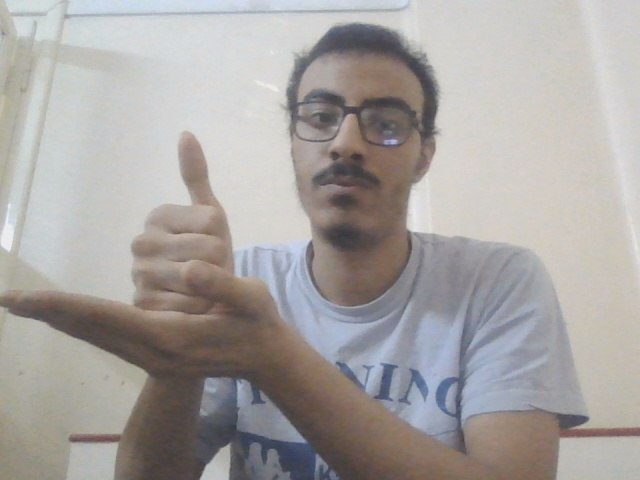Help: (1, 128, 288, 397)
